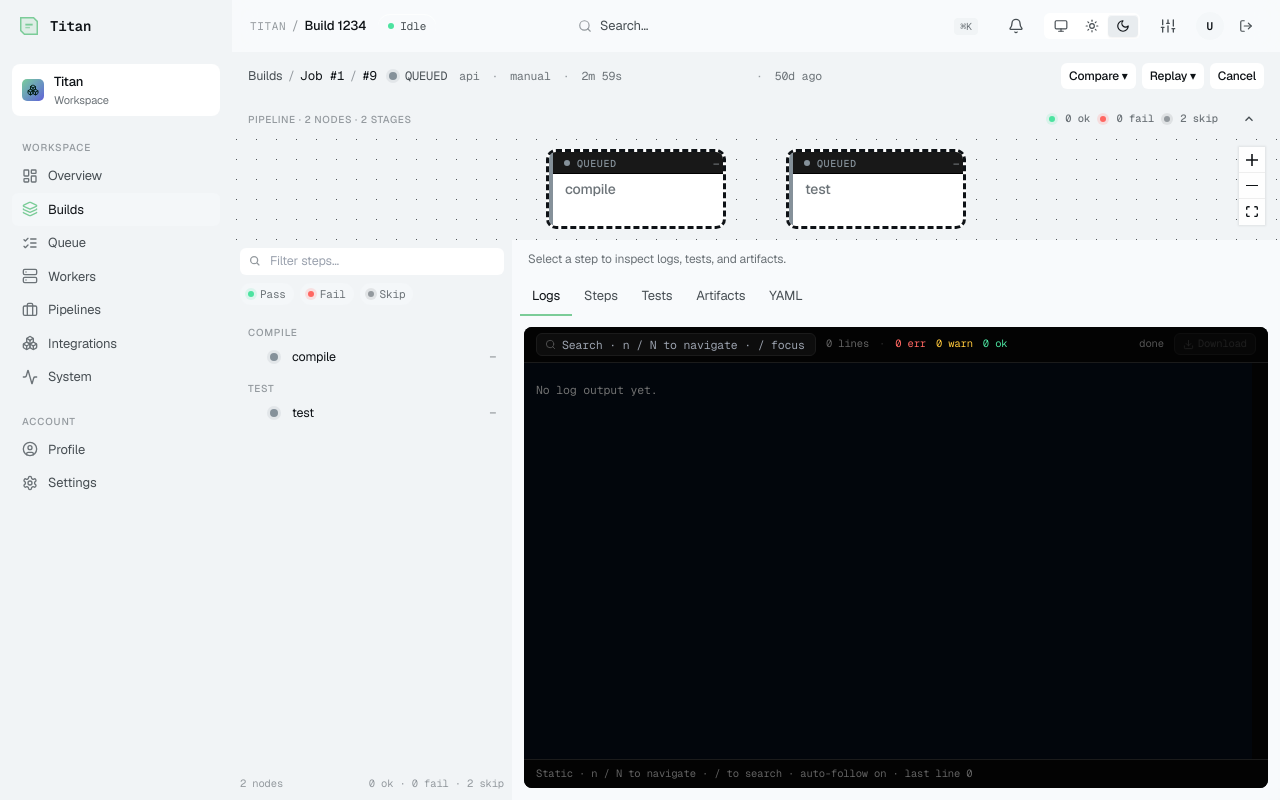
Test case: /builds/$id — header Replay split-button (closes #618) › with no selection, "from selected step" is disabled in the popover
The image size is (1280, 800).
Click the button with test id "replay-menu-trigger" at (1173, 76), box [1142,63,1204,89]
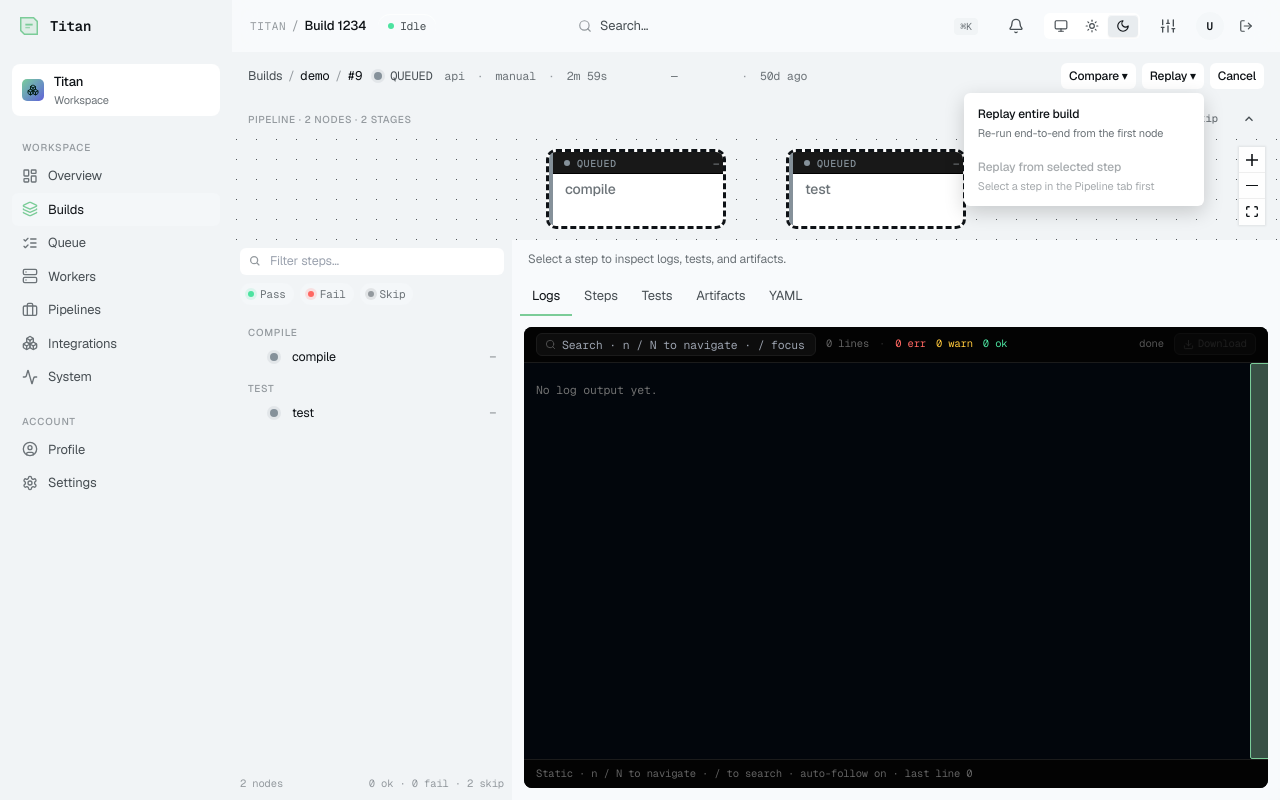
Expected: the menu with test id "replay-menu" is shown, [964,93,1204,206]
Expected: the menu item with test id "replay-menu-whole" is enabled, [968,97,1200,150]
Expected: the menu item with test id "replay-menu-from-selected" is disabled, [968,150,1200,202]
